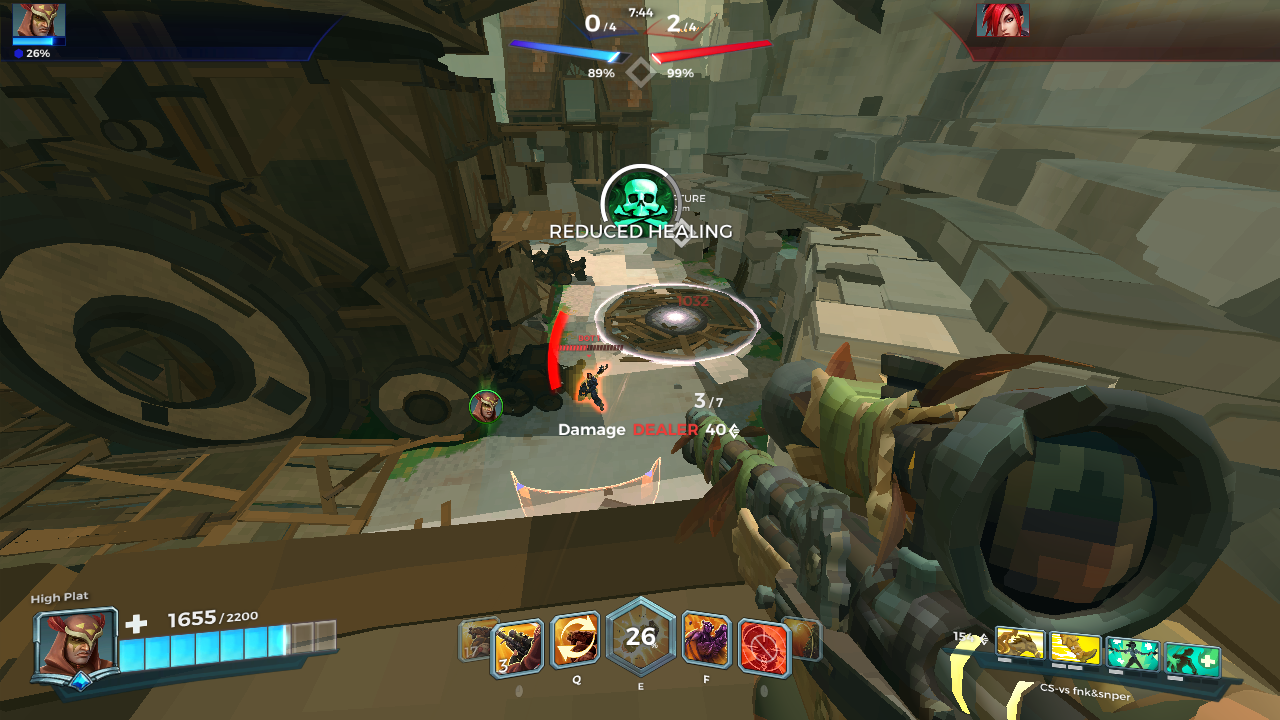model: (576, 363, 600, 413)
